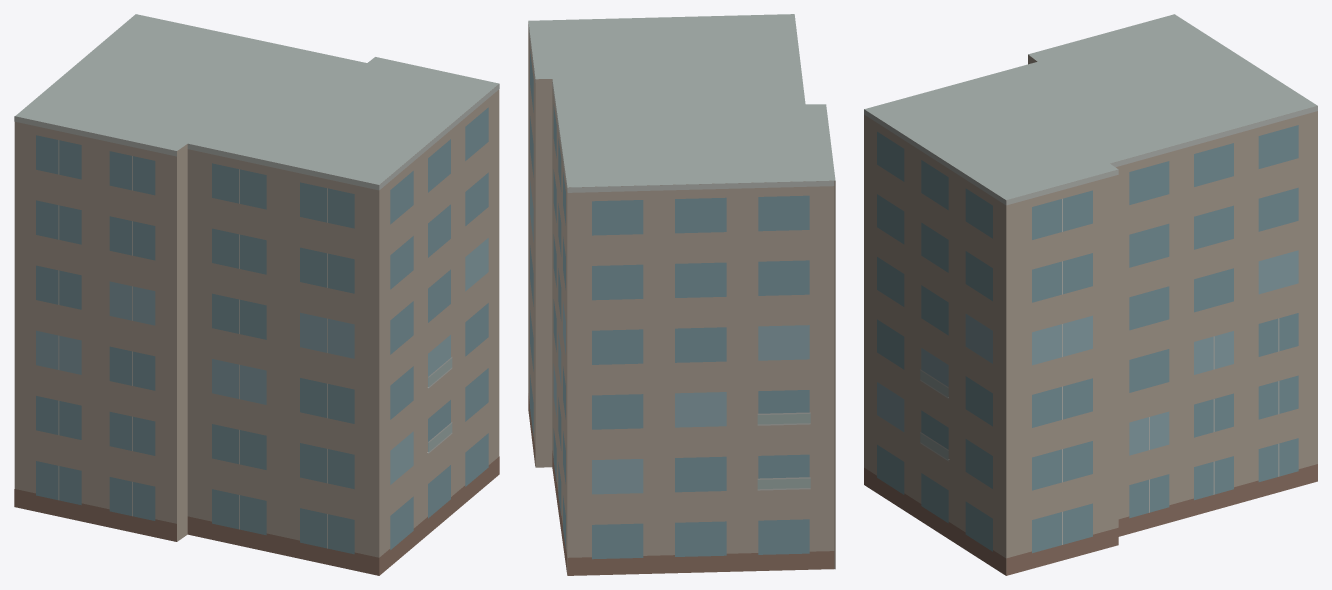
The model's file is survey-upis-32582620.glb.
3 renders of one model, left to right at view 1: azimuth 30°, elevation 25°; view 2: azimuth 150°, elevation 25°; view 3: azimuth 270°, elevation 25°, orthographic. The views are drawn at different scales.
Parts seen in each view (by area): view 1: survey-upis-32582620.tmp; view 2: survey-upis-32582620.tmp; view 3: survey-upis-32582620.tmp.
Boxes of the visible parts, bbox=[...] form: survey-upis-32582620.tmp: bbox=[14, 14, 499, 575]; survey-upis-32582620.tmp: bbox=[528, 14, 835, 575]; survey-upis-32582620.tmp: bbox=[864, 14, 1317, 575].
Bounding box in the file's own units: 18.51 × 17.4 × 19.06.
